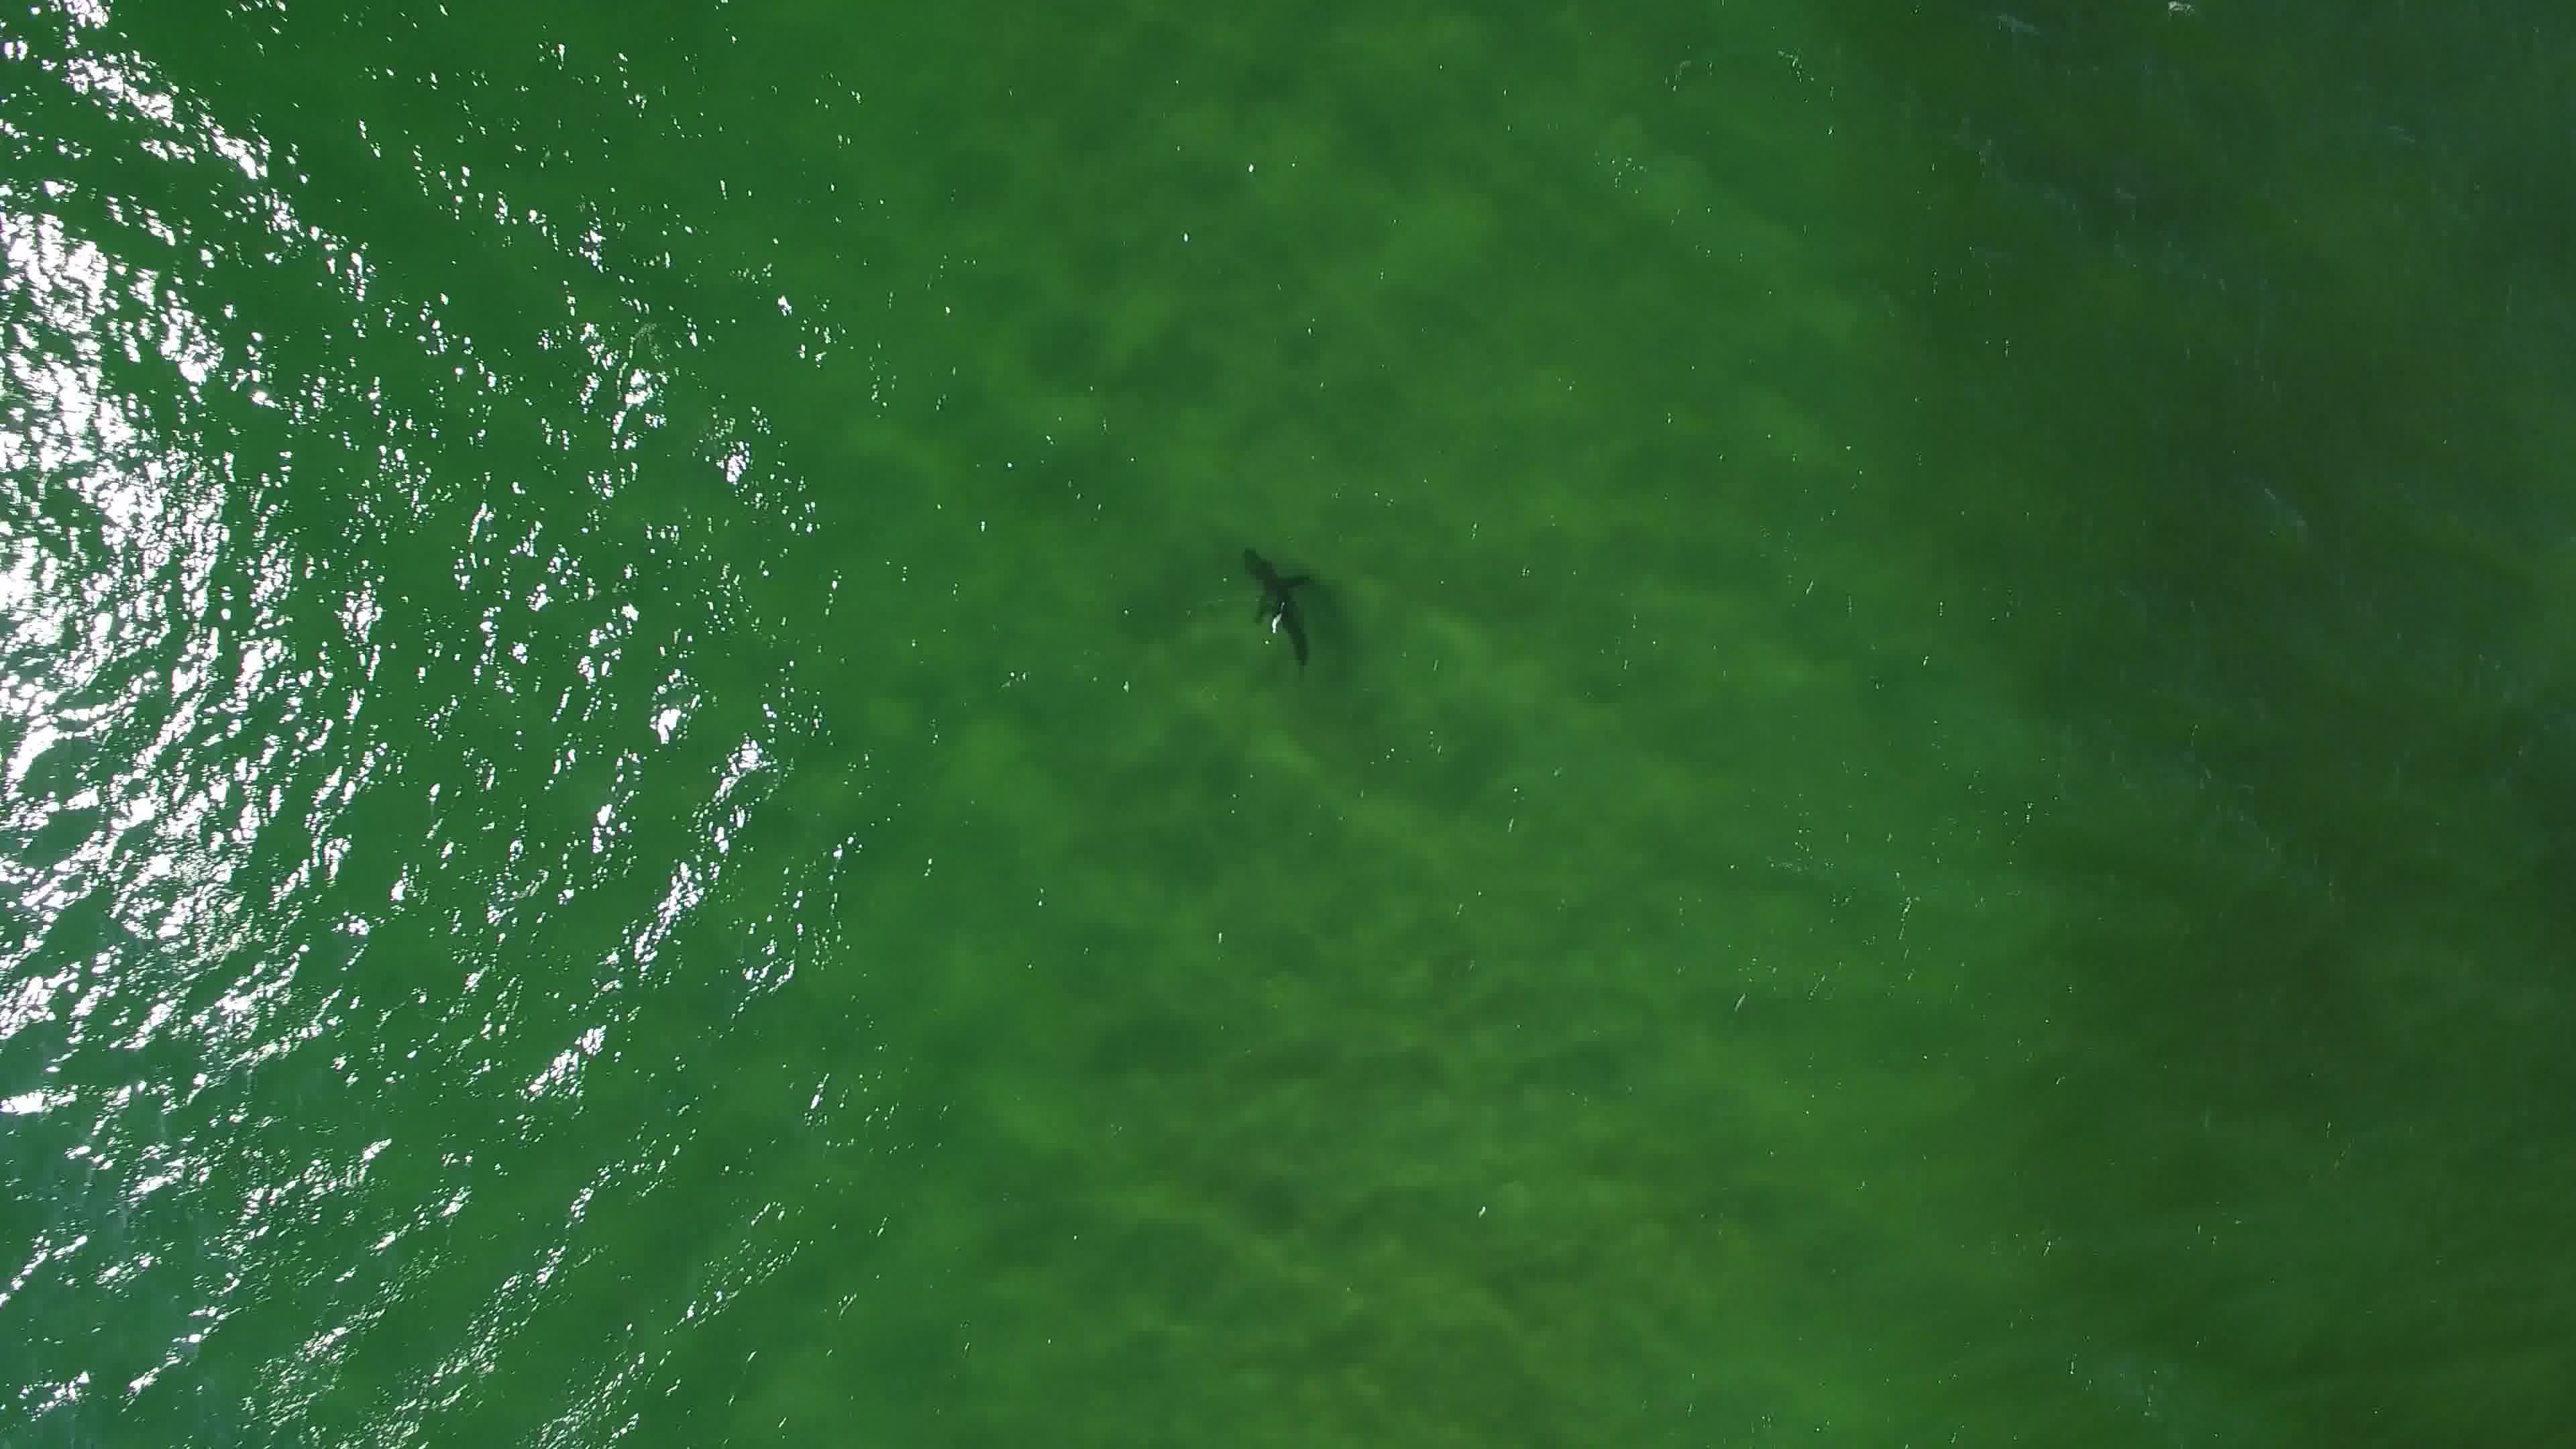shark: (1233, 545, 1316, 674)
